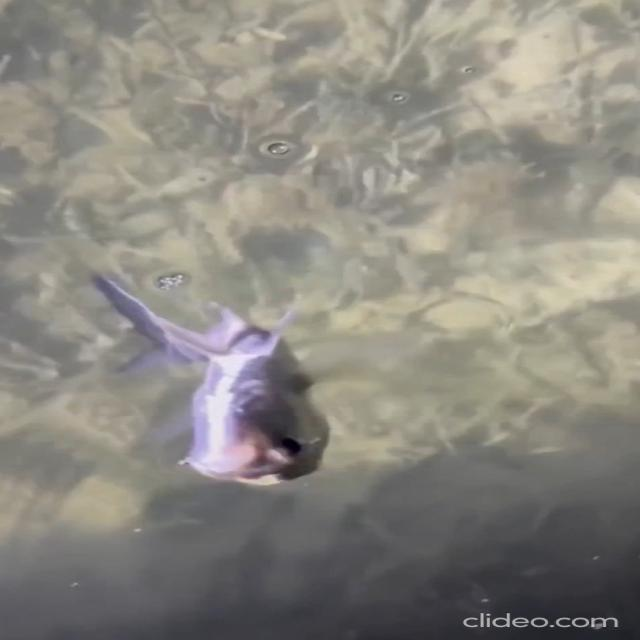fish: (79, 254, 350, 486)
